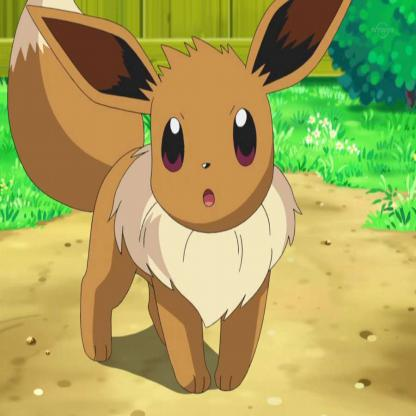Eevee: (1, 1, 361, 416)
